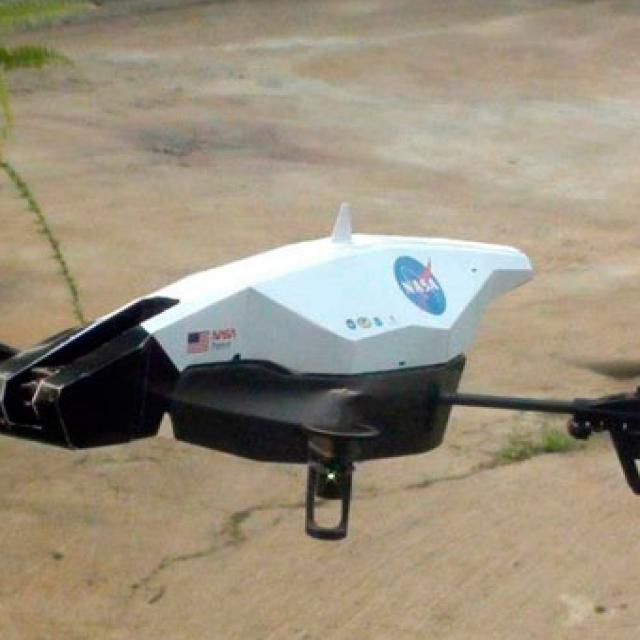drone: (0, 217, 640, 525)
